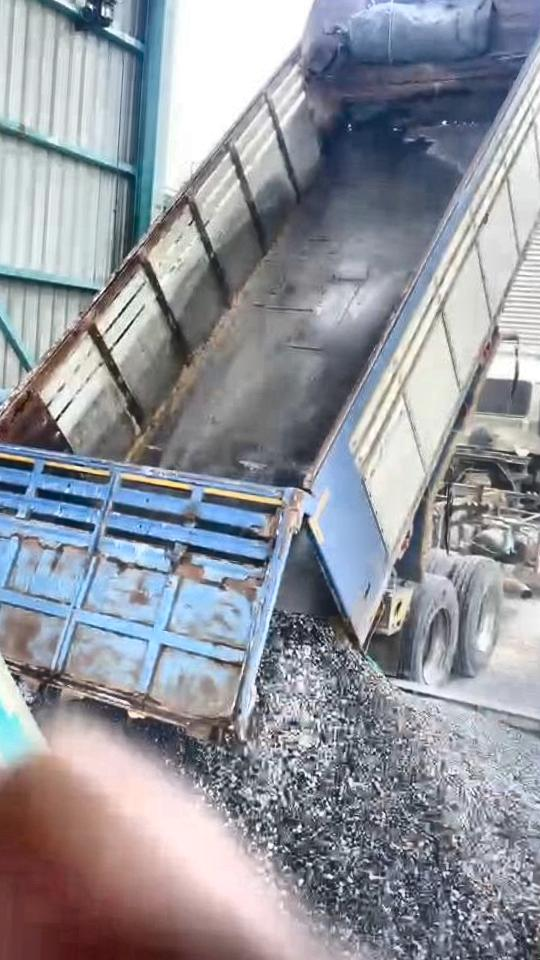gravel: (145, 614, 540, 960)
